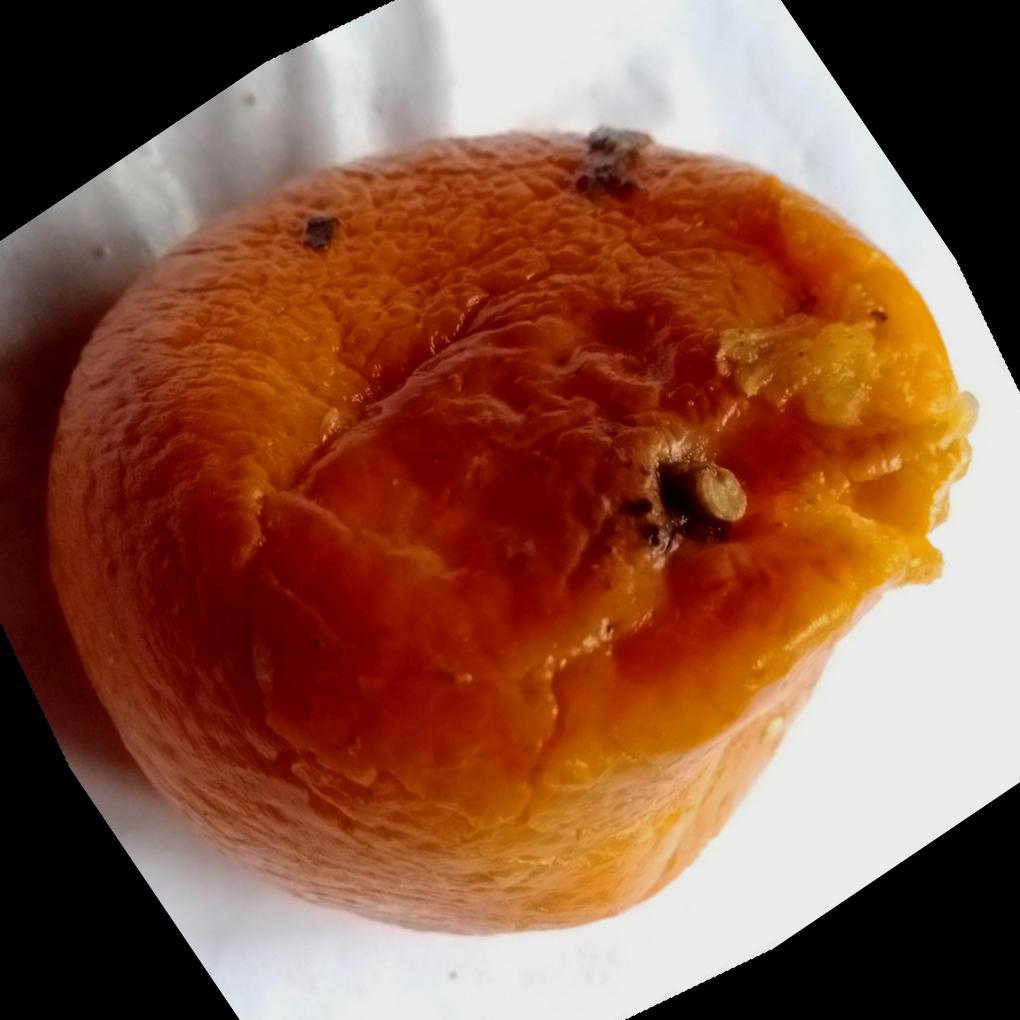FreshOrange: (38, 122, 978, 936)
